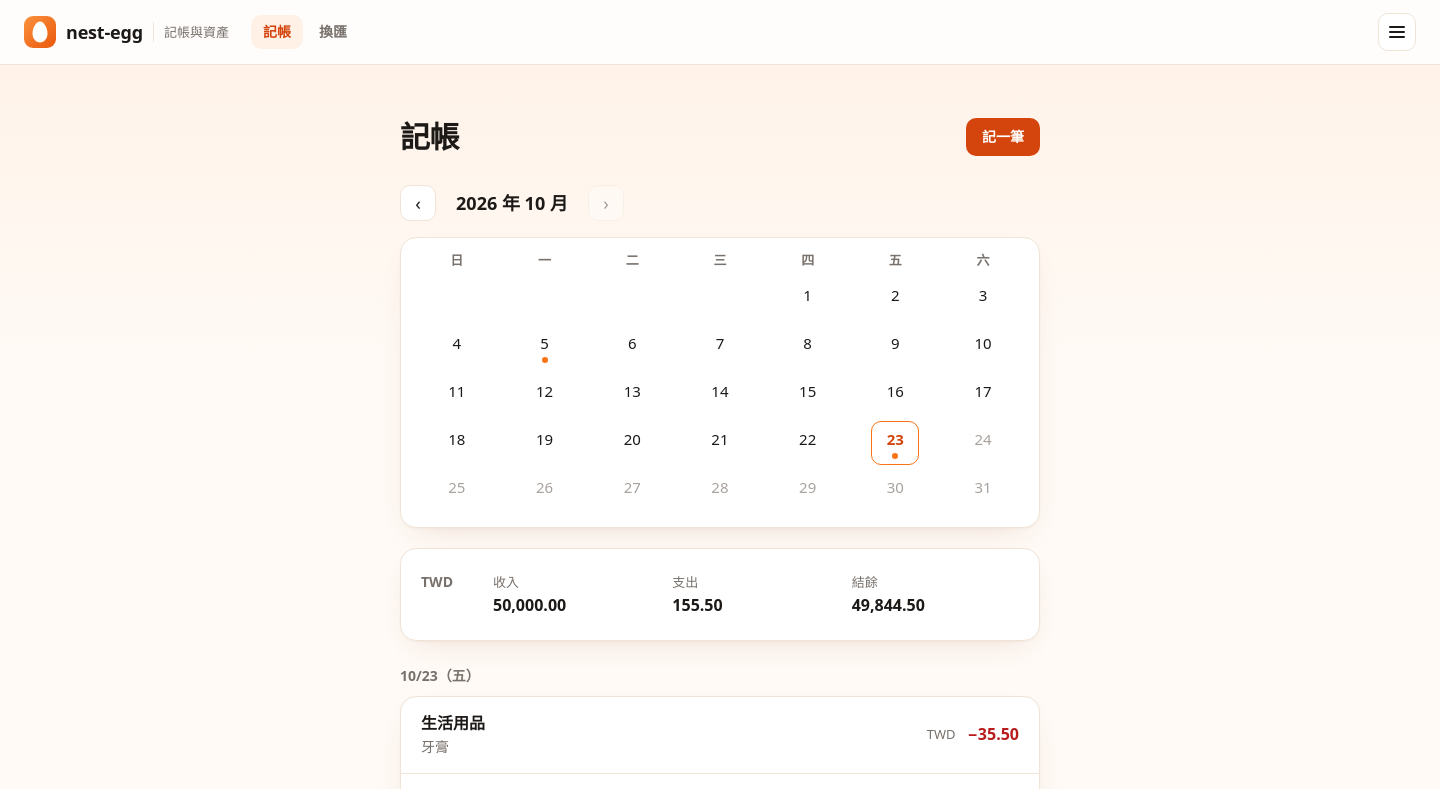
Test: switches to the previous month and keeps it in the URL
Click the button named "上個月".
click(418, 203)  # box 400,185 -> 436,221
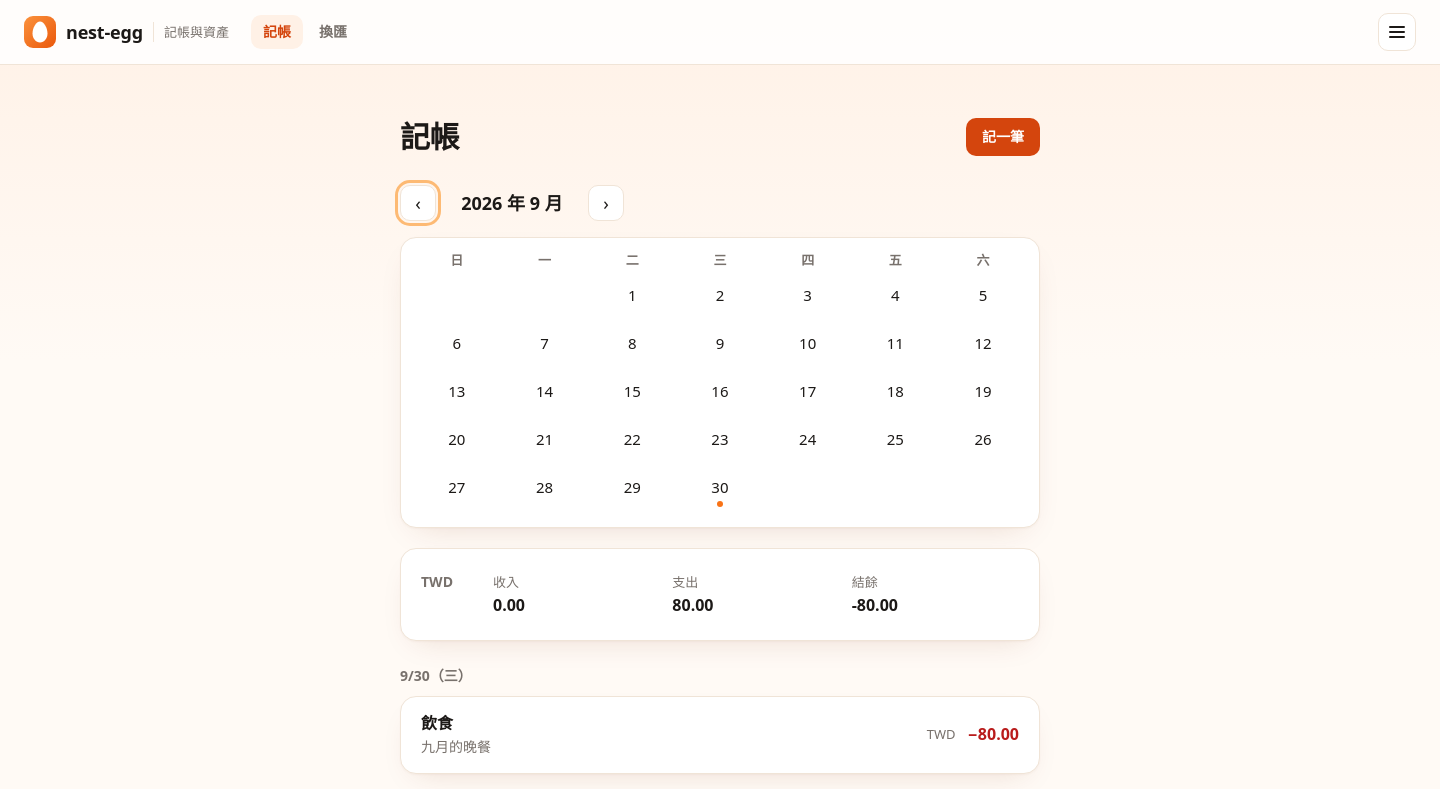
Expected: the heading "2026 年 9 月" is shown, 461,191 -> 563,215
Expected: the text "九月的晚餐" is shown, 421,737 -> 491,756
Expected: the text "-80.00" is shown, 852,594 -> 898,616
